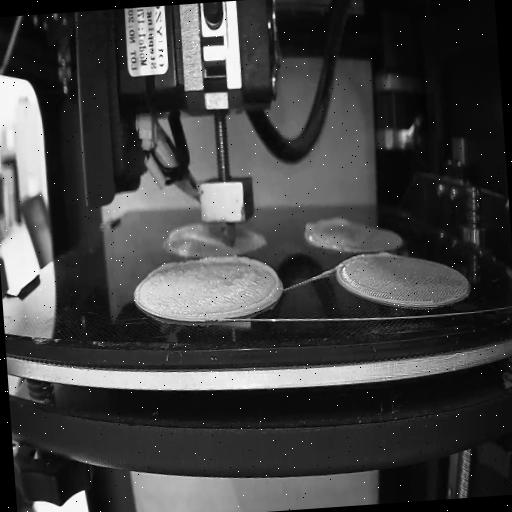over_extrusion: (194, 250, 282, 320), (301, 212, 351, 240), (181, 228, 219, 250), (143, 259, 184, 279), (372, 250, 394, 259)
